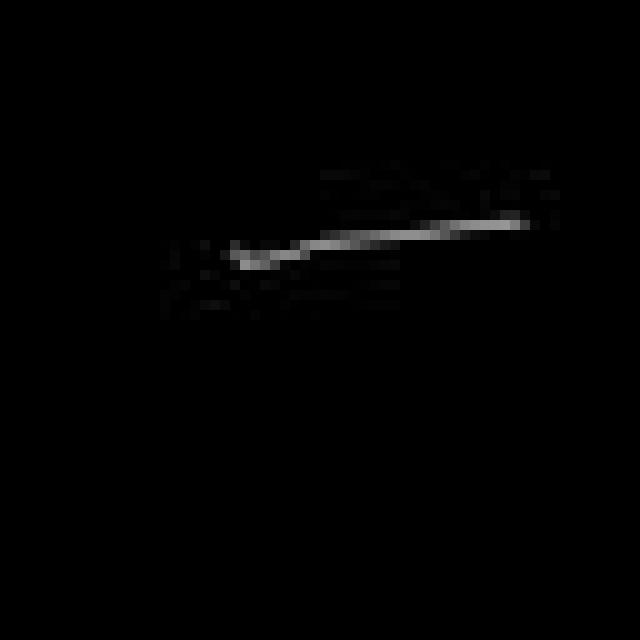1 -one-: (226, 202, 528, 286)
